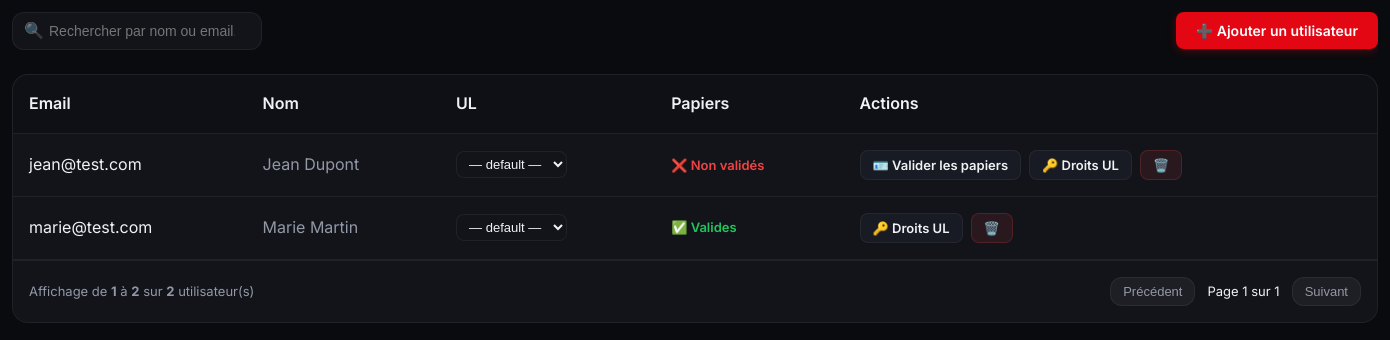
UsersTab › filtre les utilisateurs par recherche
In the search field with placeholder "Rechercher par nom ou email...": (137, 31) [12,12,262,50], type "marie"
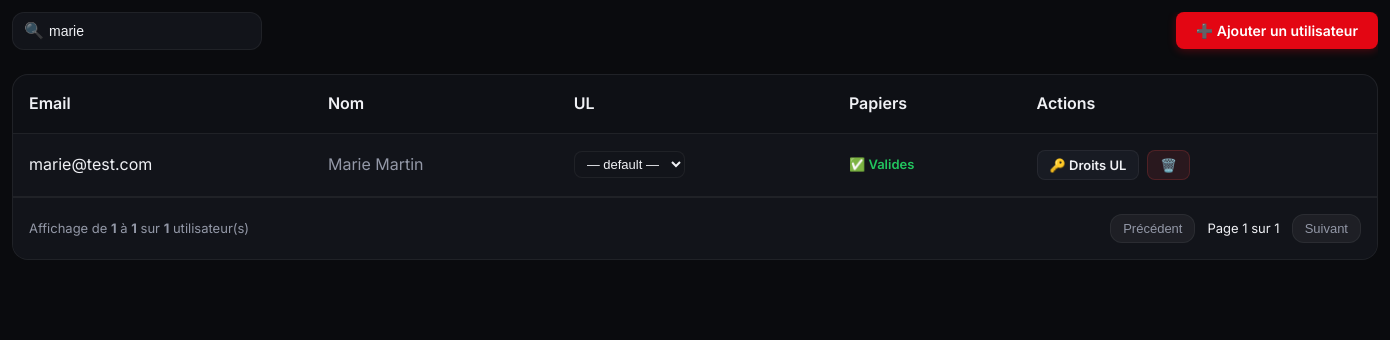
Expected: the text "marie@test.com" is shown, [13,133,312,196]
Now the text "jean@test.com" is gone
